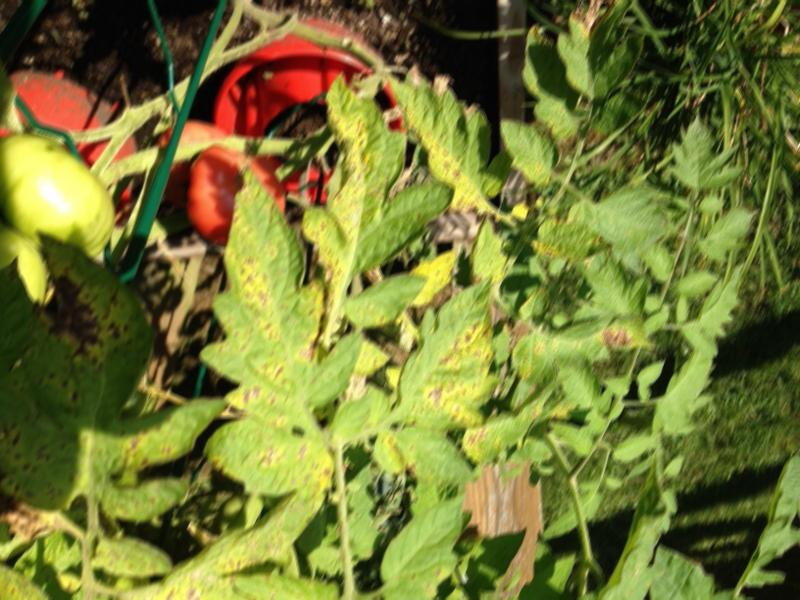Tomato Septoria leaf spot: (205, 175, 376, 500), (10, 232, 192, 535), (294, 101, 446, 290), (384, 57, 536, 215), (132, 498, 321, 599), (403, 281, 505, 432), (528, 212, 616, 271)
